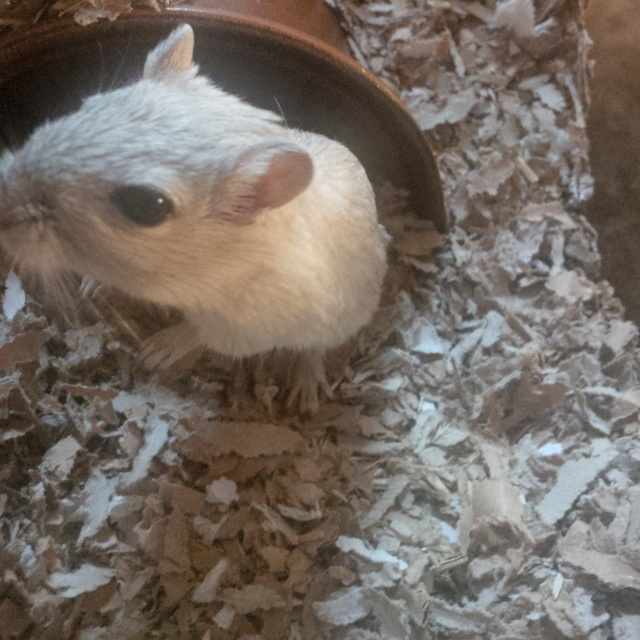Hamster: (0, 21, 390, 415)
